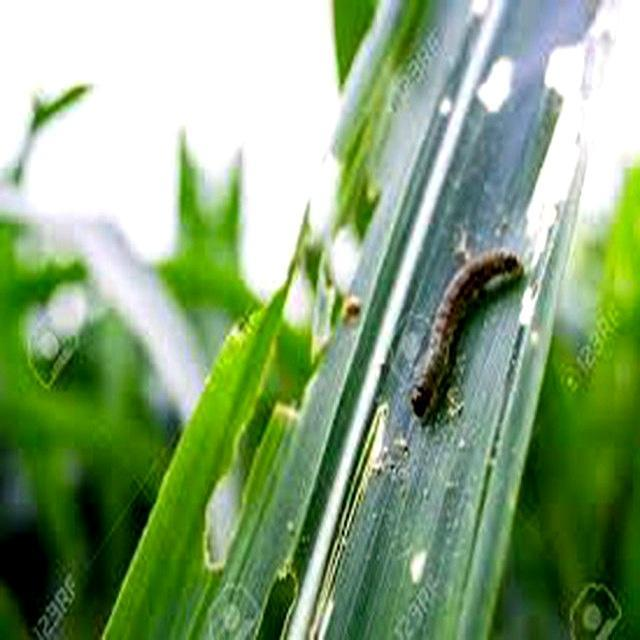Plaga: (410, 246, 526, 425)
